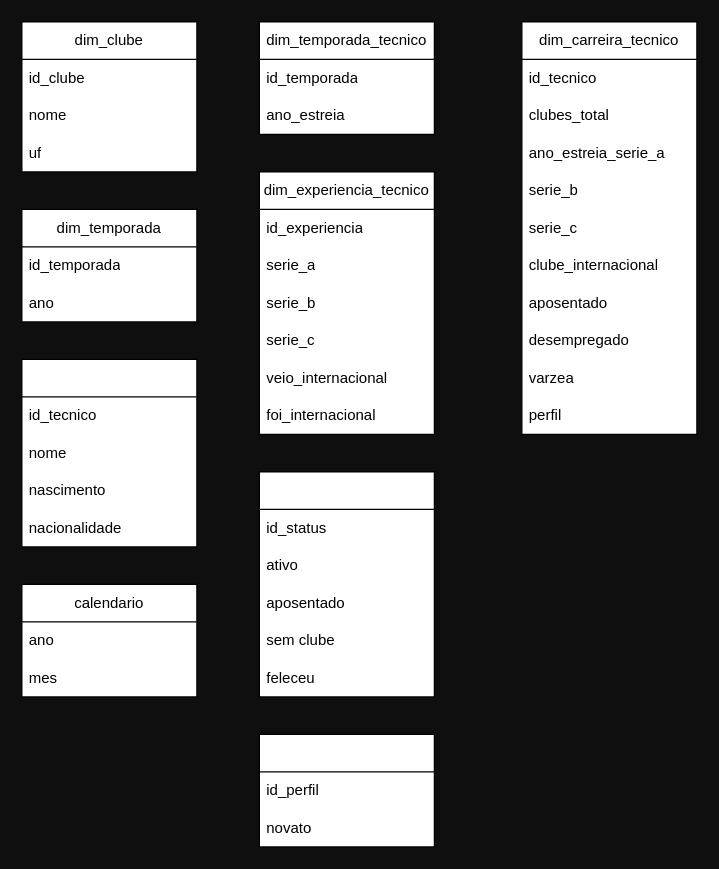
The diagram is 719 pixels wide and 869 high, and some of its shapes have lost their labels. Each missing label, with the box of its shape:
dim_perfil_tecnico: (258, 733, 434, 847)
dim_status_tecnico: (258, 471, 434, 697)
dim_tecnico: (21, 358, 197, 547)
